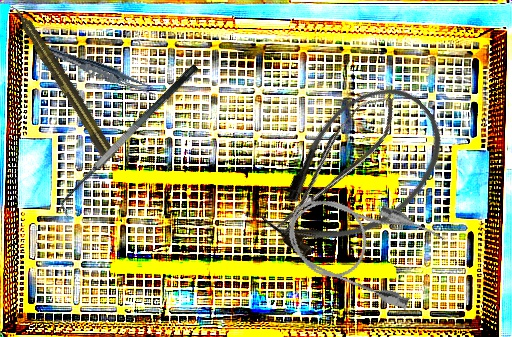Cannula: (241, 64, 467, 284), (275, 176, 448, 314)
Handpiece: (7, 0, 118, 163)
Micro Scissor: (259, 83, 410, 245)
Spatula Surgical: (50, 63, 211, 218)
Tissue Forceps: (38, 41, 160, 99)
